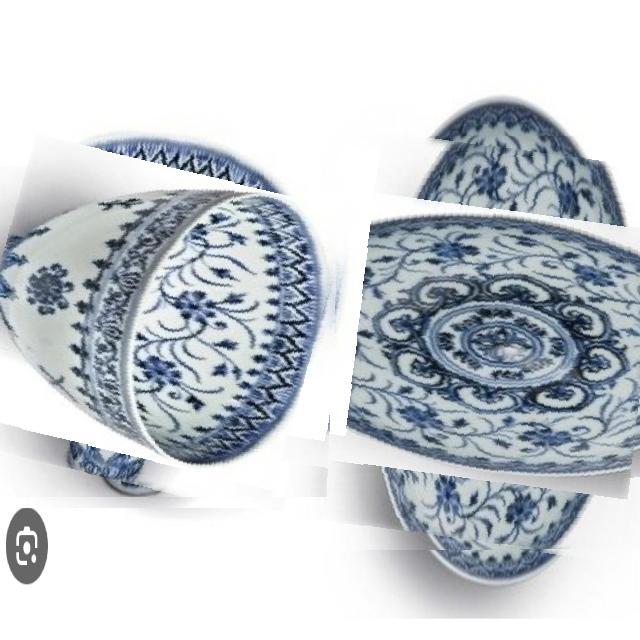recyclable: (288, 136, 640, 551), (0, 123, 343, 497)
